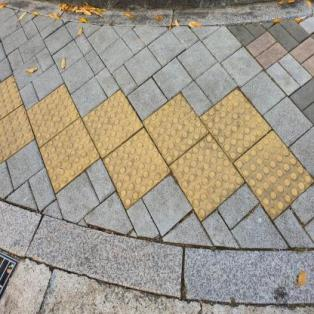Podoctatil: (0, 67, 313, 231)
